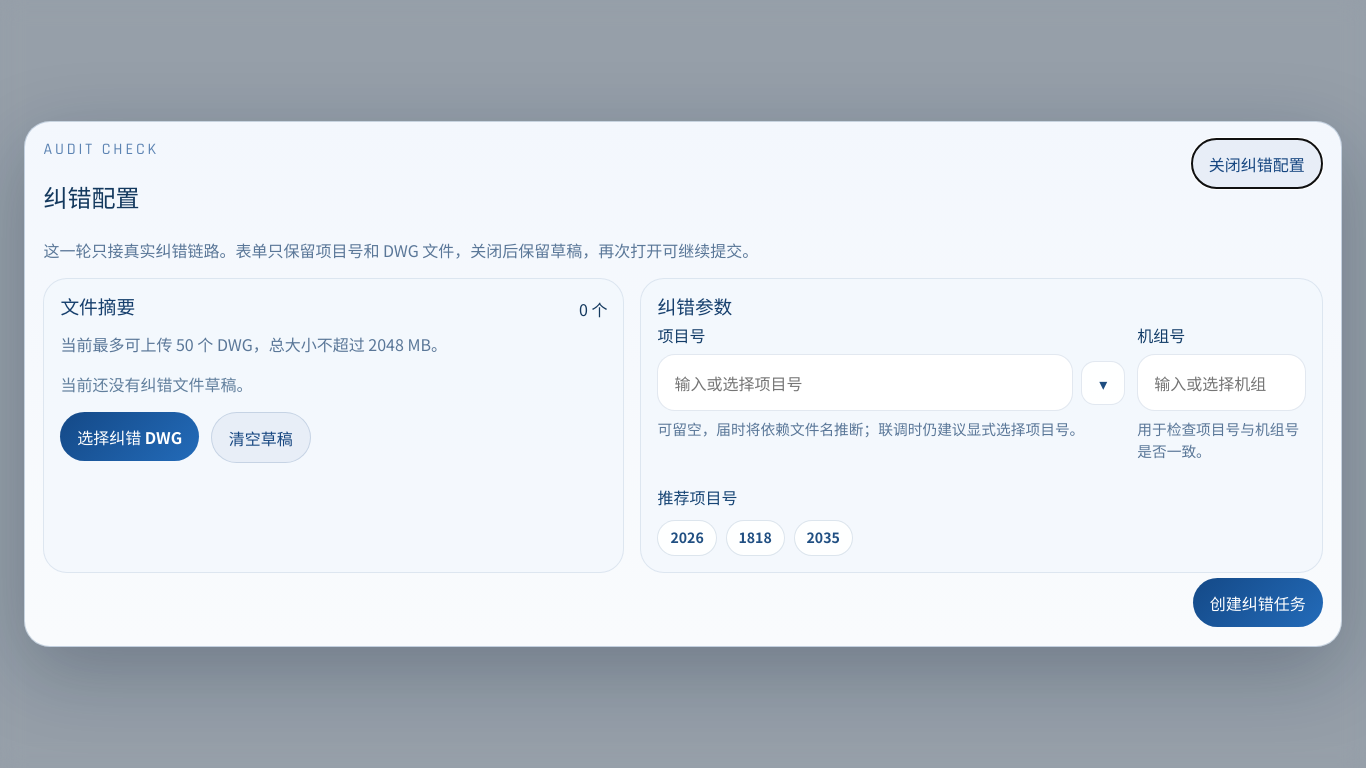
AuditCheckWorkspace › renders a searchable project number combobox from audit replace options
This screenshot has width=1366, height=768.
Type "20" into the dropdown labelled "项目号" at (865, 383), box [658,354,1073,411]
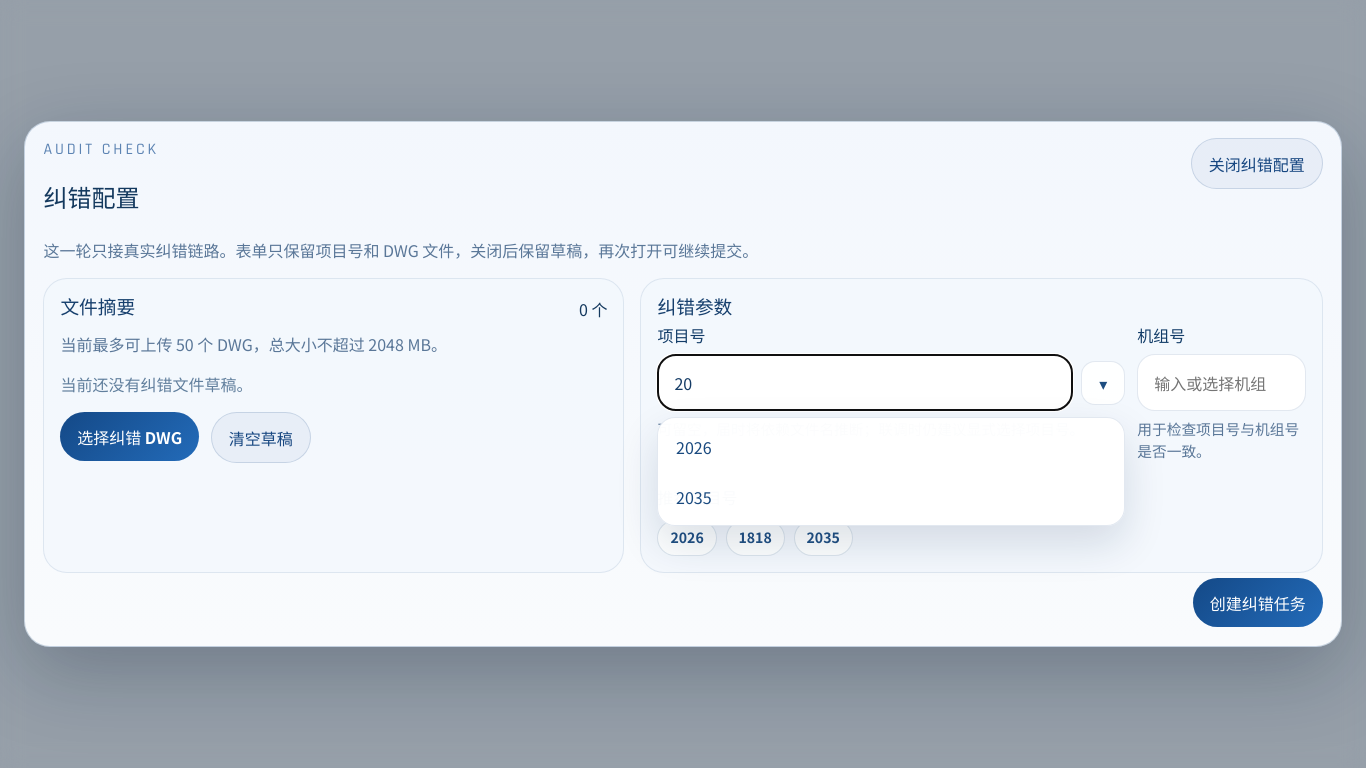
Check: the option "2026" is shown, box [664,424,1119,470]
Check: the option "2035" is shown, box [664,473,1119,520]
